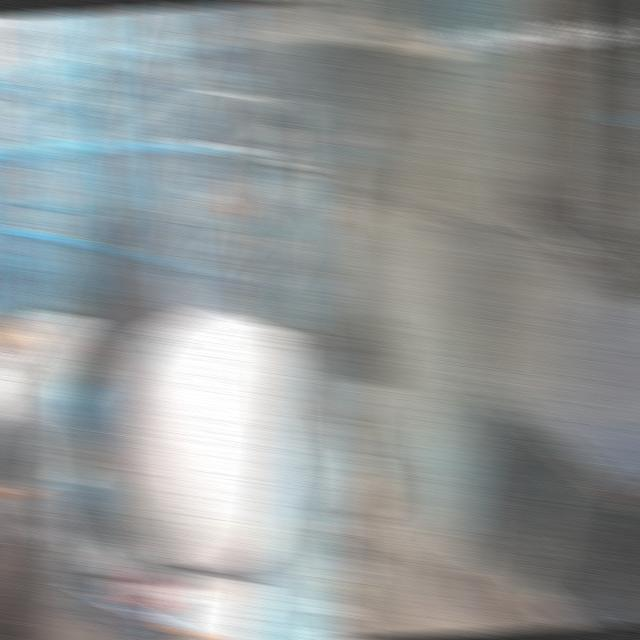cement_mixer_truck: (0, 279, 413, 640)
swing_chute: (281, 127, 392, 329)
